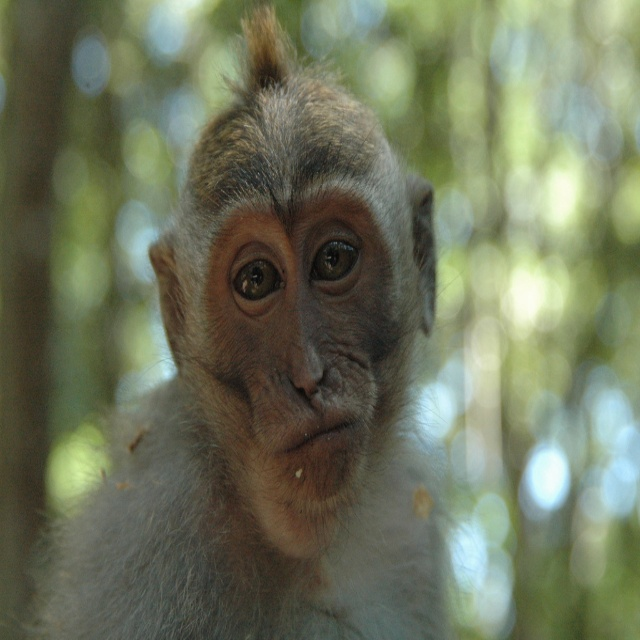Monkey: (0, 7, 495, 639)
